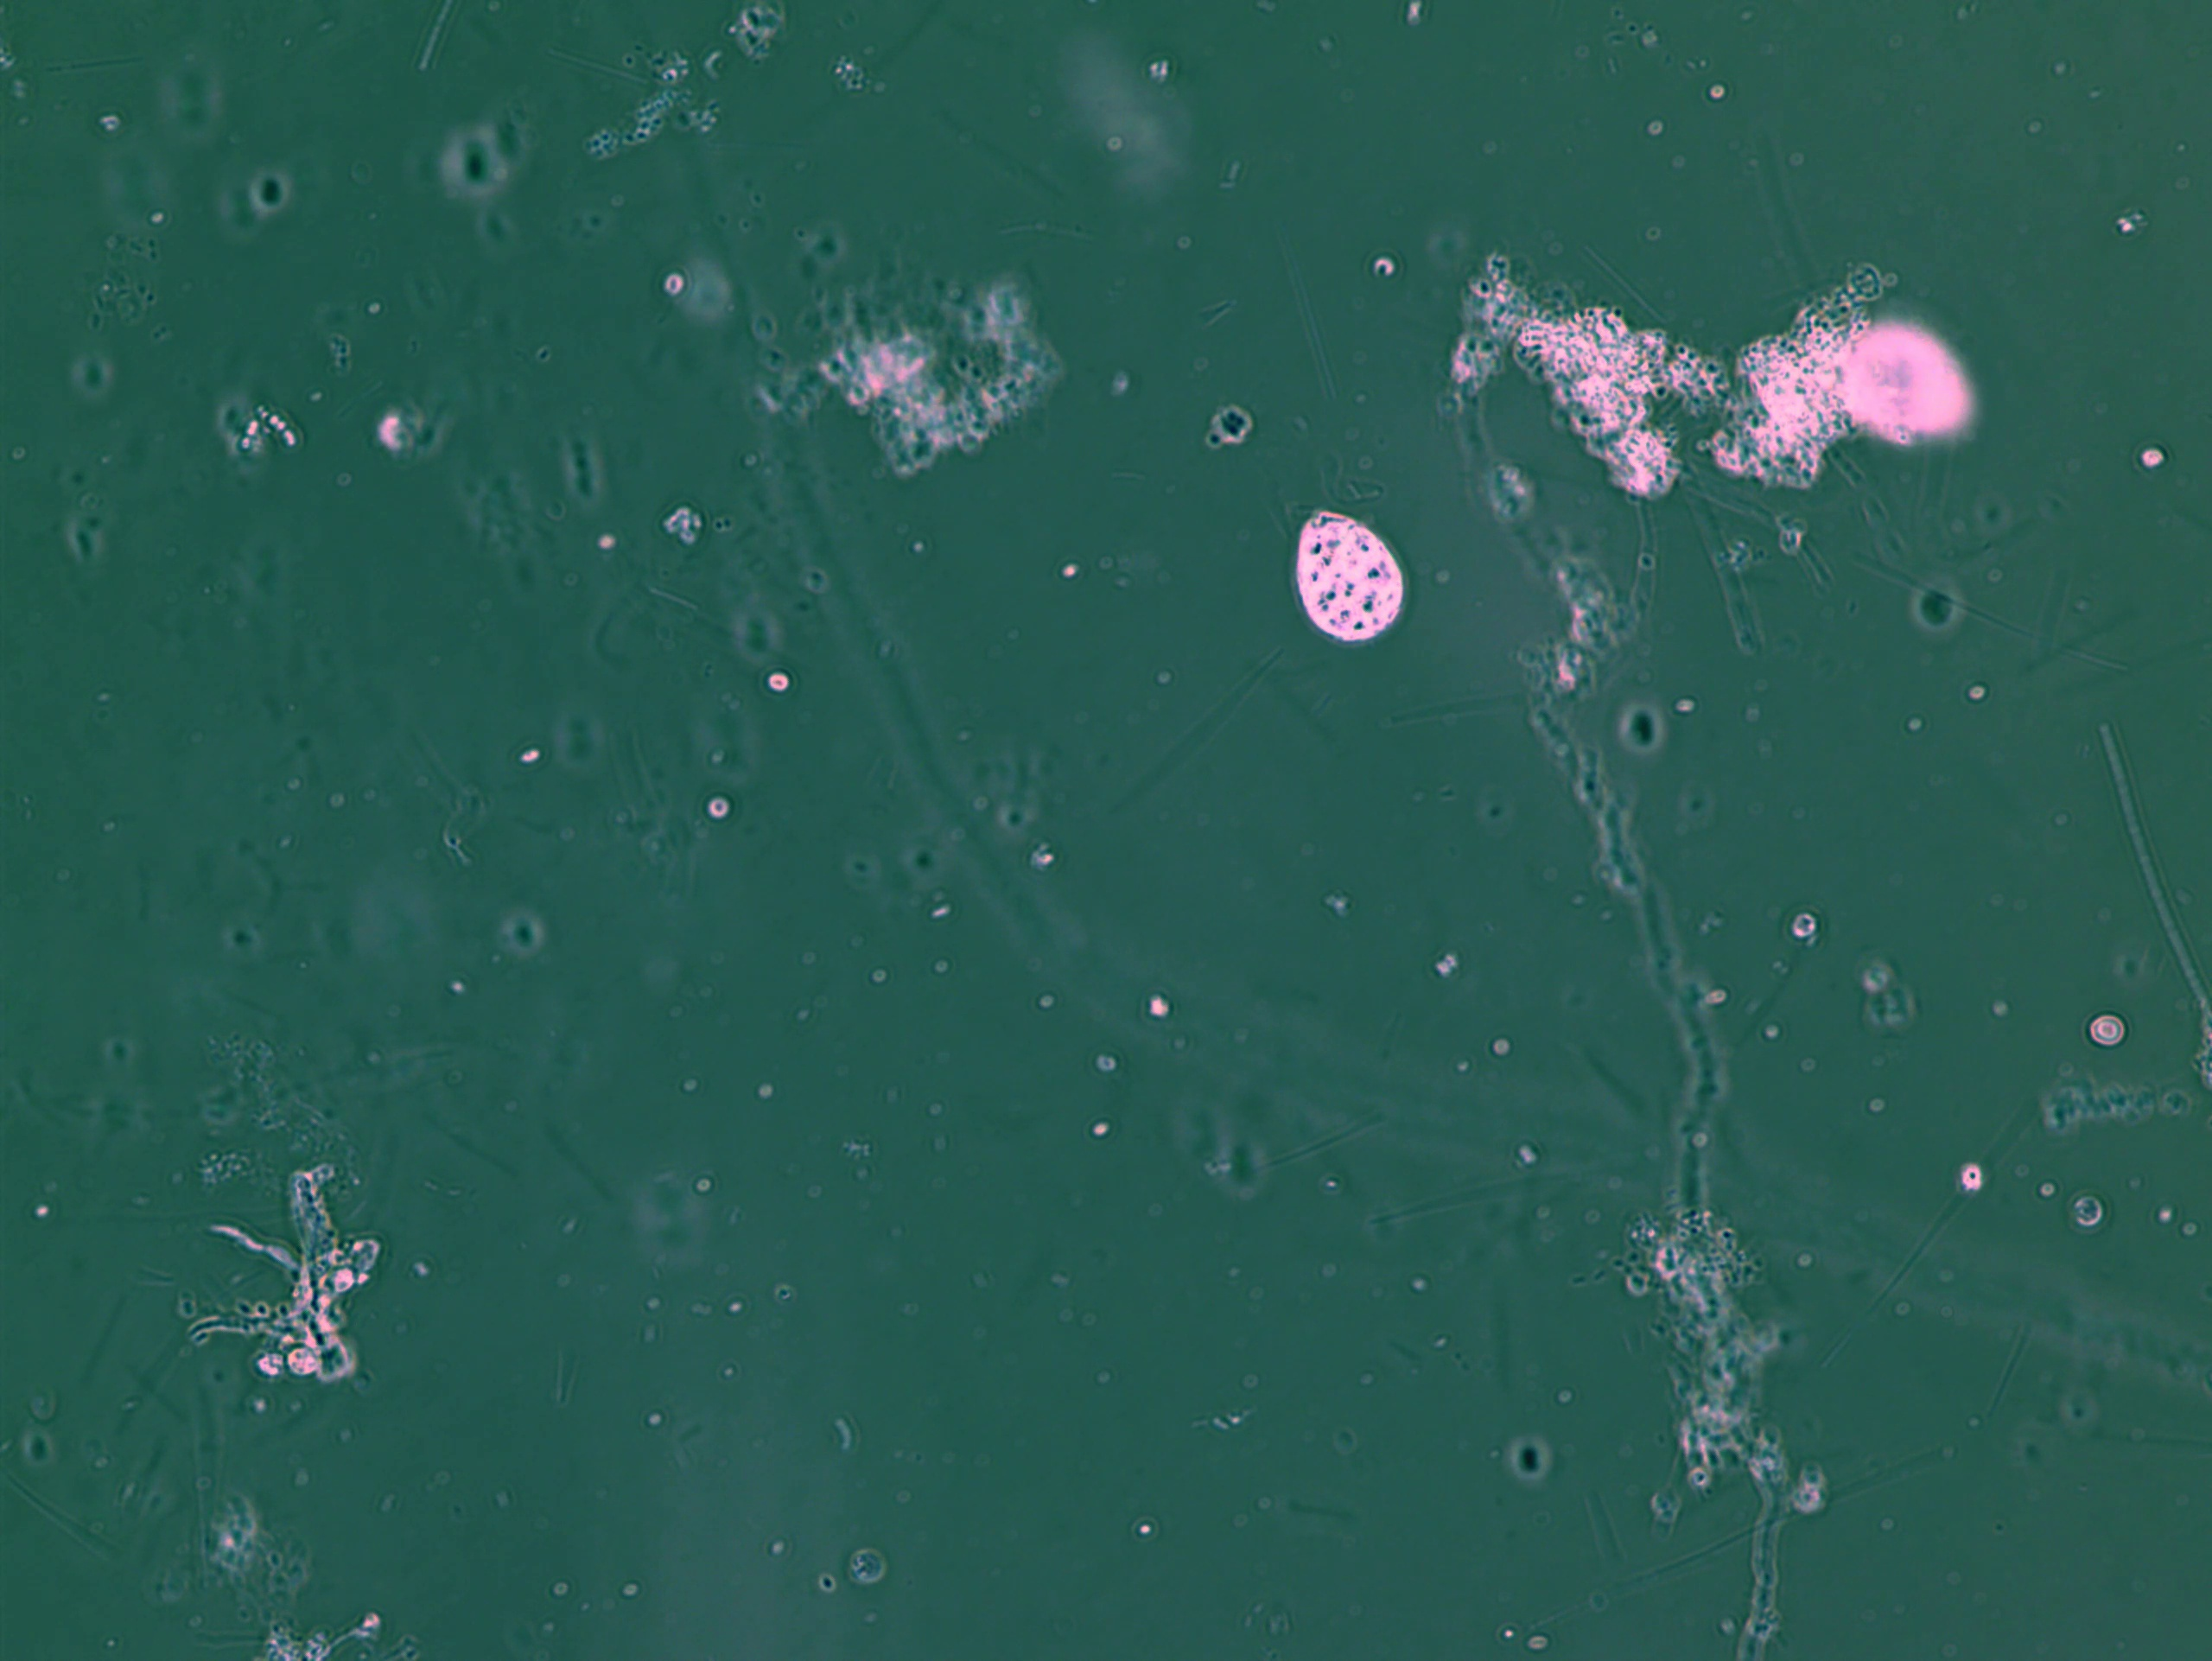depth:0: (1270, 487, 1430, 665)
